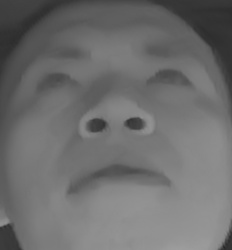eye: (144, 61, 195, 95), (36, 65, 83, 98)
mouth: (63, 147, 171, 205)
